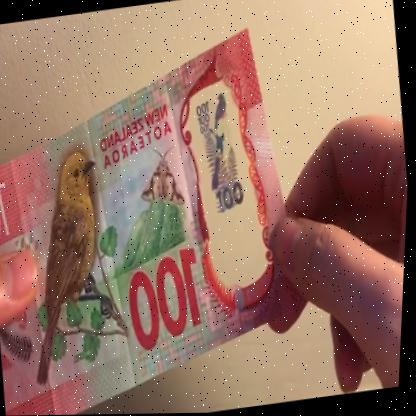100B: (188, 84, 257, 247)
